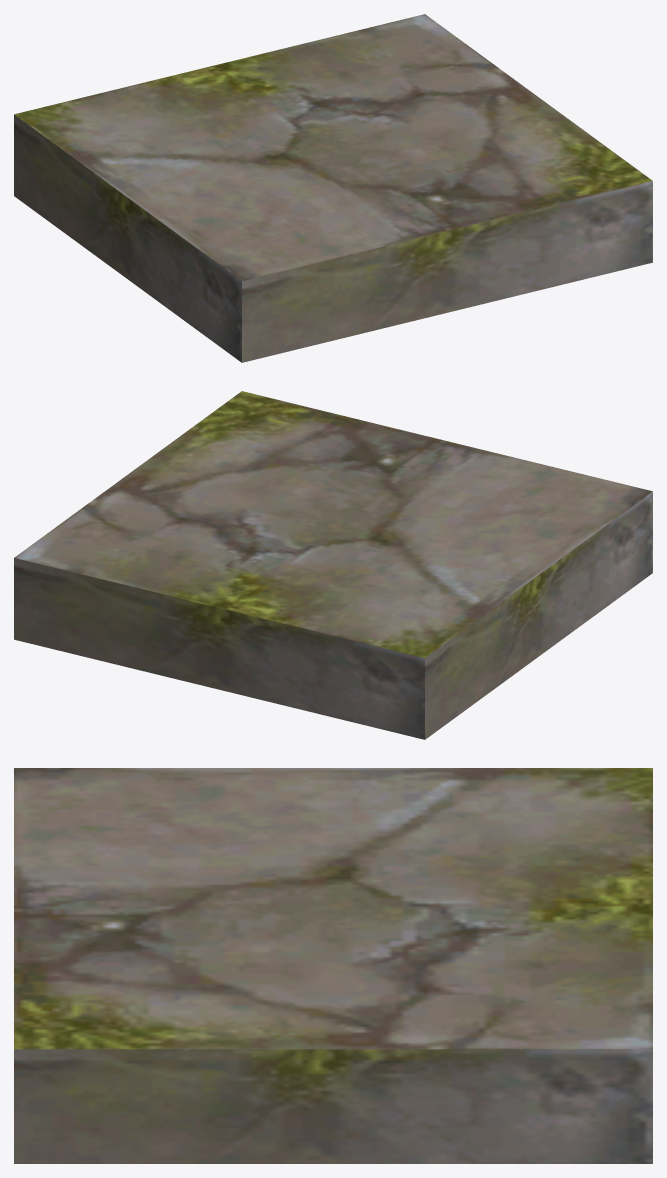
File: 4009_Item_dimian_5.FBX
3 views of the same model, one above another, from view 1: azimuth 30°, elevation 25°; view 2: azimuth 150°, elevation 25°; view 3: azimuth 270°, elevation 25° (orthographic). The views are drawn at different scales.
Parts seen in each view (by area): view 1: 4009_Item_dimian_5; view 2: 4009_Item_dimian_5; view 3: 4009_Item_dimian_5.
Part boxes in pixels (x1,y1,x2,y2): 4009_Item_dimian_5: (14, 14, 652, 362); 4009_Item_dimian_5: (14, 391, 652, 739); 4009_Item_dimian_5: (14, 768, 652, 1163).
Size of the model in its own units: 78.04 by 14.83 by 74.96.
